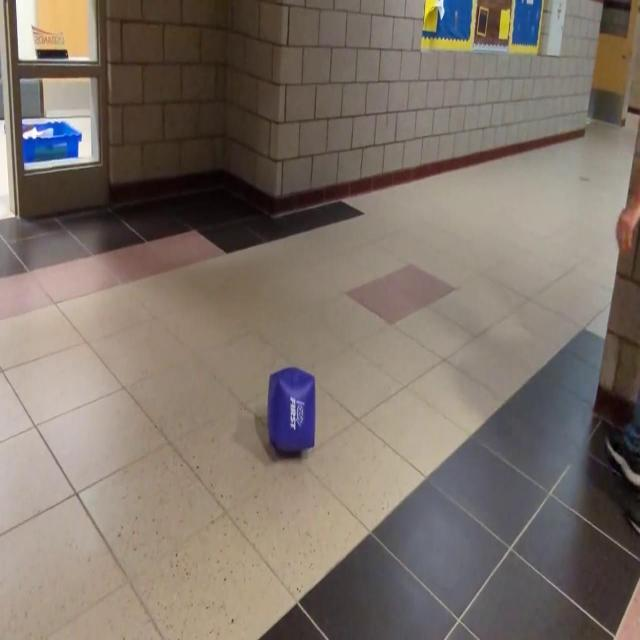frc_cube: (266, 365, 316, 455)
